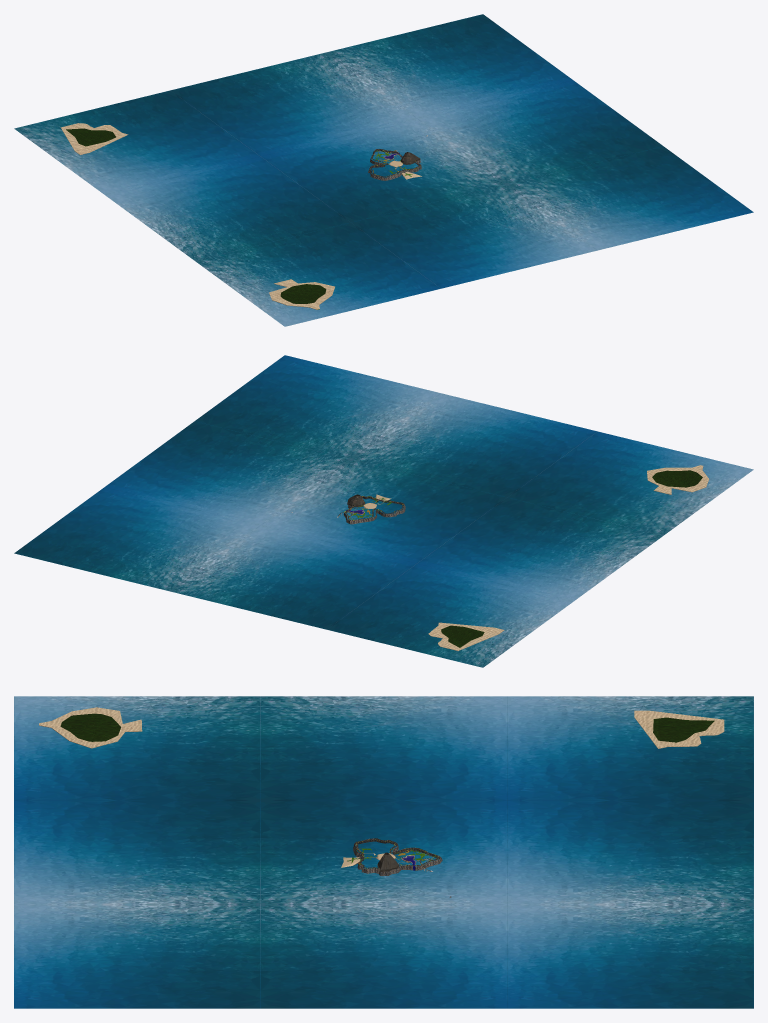
The model's file is Island.glb.
3 renders of one model, top to bottom at view 1: azimuth 30°, elevation 25°; view 2: azimuth 150°, elevation 25°; view 3: azimuth 270°, elevation 25°, orthographic. The views are drawn at different scales.
Visible parts, largest first — view 1: Ocean, Spade Island, Heart Island; view 2: Ocean, Spade Island, Heart Island; view 3: Ocean, Spade Island, Heart Island, Island Rock Faces.
Boxes of the visible parts, x1=… form: Ocean: x1=14, y1=14, x2=753, y2=326; Spade Island: x1=269, y1=279, x2=334, y2=309; Heart Island: x1=60, y1=123, x2=128, y2=154; Ocean: x1=14, y1=355, x2=753, y2=667; Spade Island: x1=647, y1=465, x2=709, y2=494; Heart Island: x1=428, y1=622, x2=504, y2=650; Ocean: x1=14, y1=696, x2=753, y2=1008; Spade Island: x1=39, y1=707, x2=142, y2=748; Heart Island: x1=634, y1=710, x2=724, y2=748; Island Rock Faces: x1=353, y1=838, x2=442, y2=875.
Size of what is drawn, in the model's own units: 6263 by 169 by 6265.
22 materials, 12 textured.
